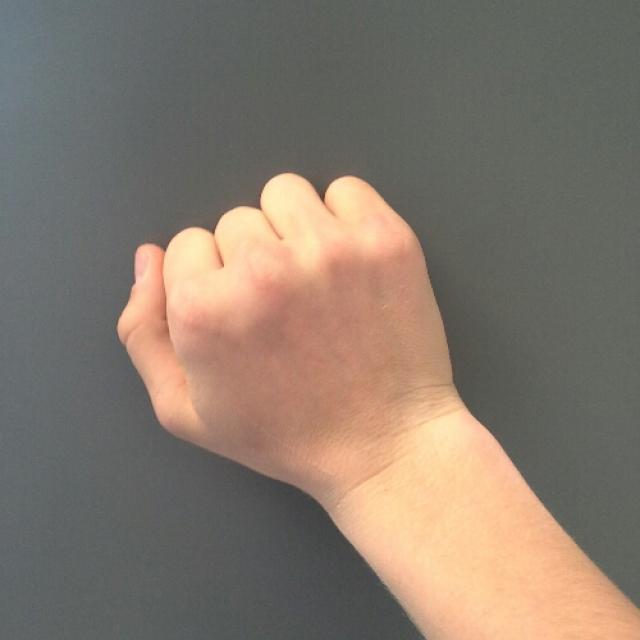rock: (113, 171, 454, 474)
